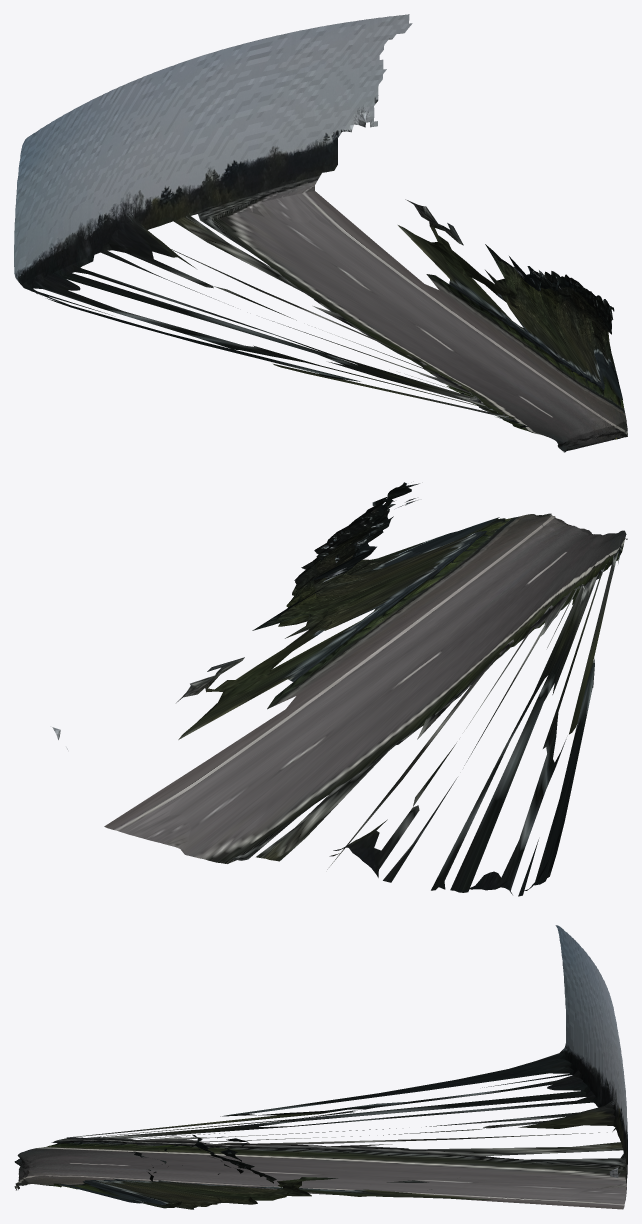
3 views of the same model, one above another, from view 1: azimuth 30°, elevation 25°; view 2: azimuth 150°, elevation 25°; view 3: azimuth 270°, elevation 25° (orthographic). The views are drawn at different scales.
Visible parts, largest first — view 1: defaultobject; view 2: defaultobject; view 3: defaultobject.
Part boxes in pixels (x1,y1,x2,y2): defaultobject: (14, 14, 627, 452); defaultobject: (52, 482, 627, 896); defaultobject: (14, 925, 627, 1209).
Bounding box in the file's own units: 31.38 × 12.53 × 44.45.
1 material, 1 textured.
